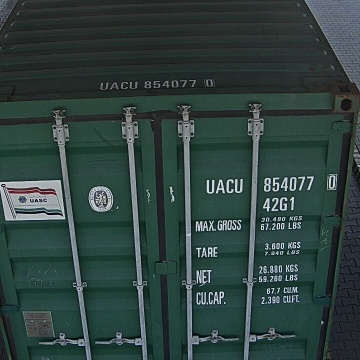serial_id: (207, 175, 336, 193)
